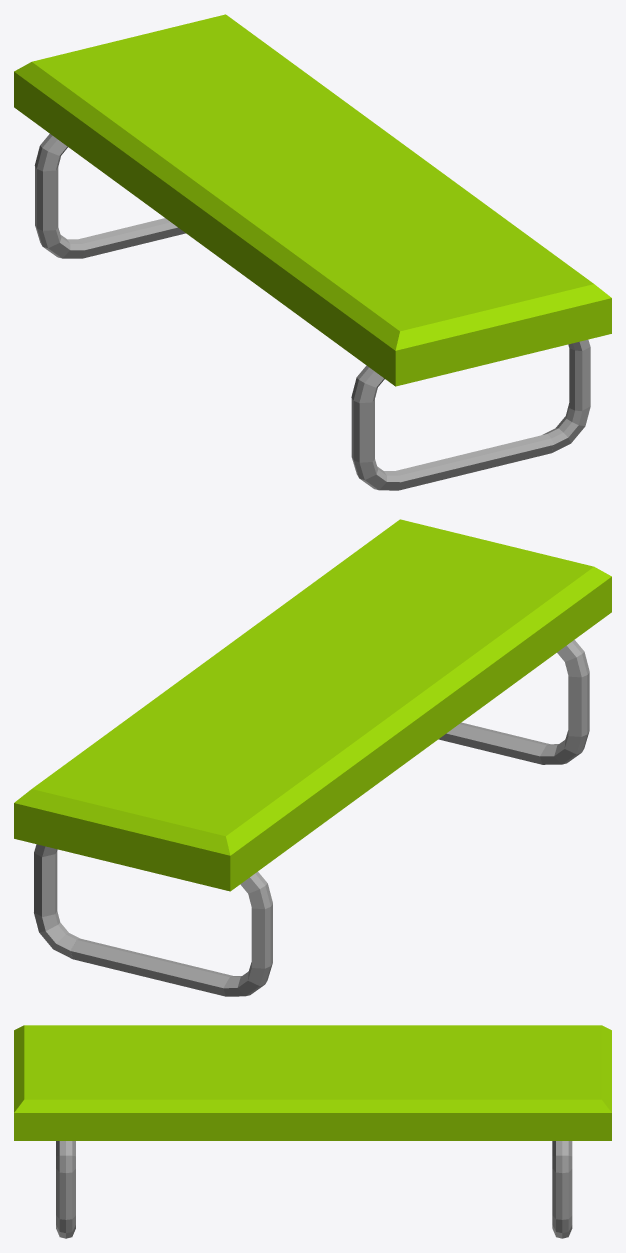
The model's file is bench.fbx.
The picture shows the model from 3 angles, top to bottom: view 1: azimuth 30°, elevation 25°; view 2: azimuth 150°, elevation 25°; view 3: azimuth 270°, elevation 25°; orthographic projection. The views are drawn at different scales.
Visible parts, largest first — view 1: polySurface3521; view 2: polySurface3521; view 3: polySurface3521.
Part boxes in pixels (x1,y1,x2,y2): polySurface3521: (14,14,611,490); polySurface3521: (14,519,611,996); polySurface3521: (14,1025,611,1238).
Size of the model in its own units: 0.7842 by 0.5824 by 2.2.
